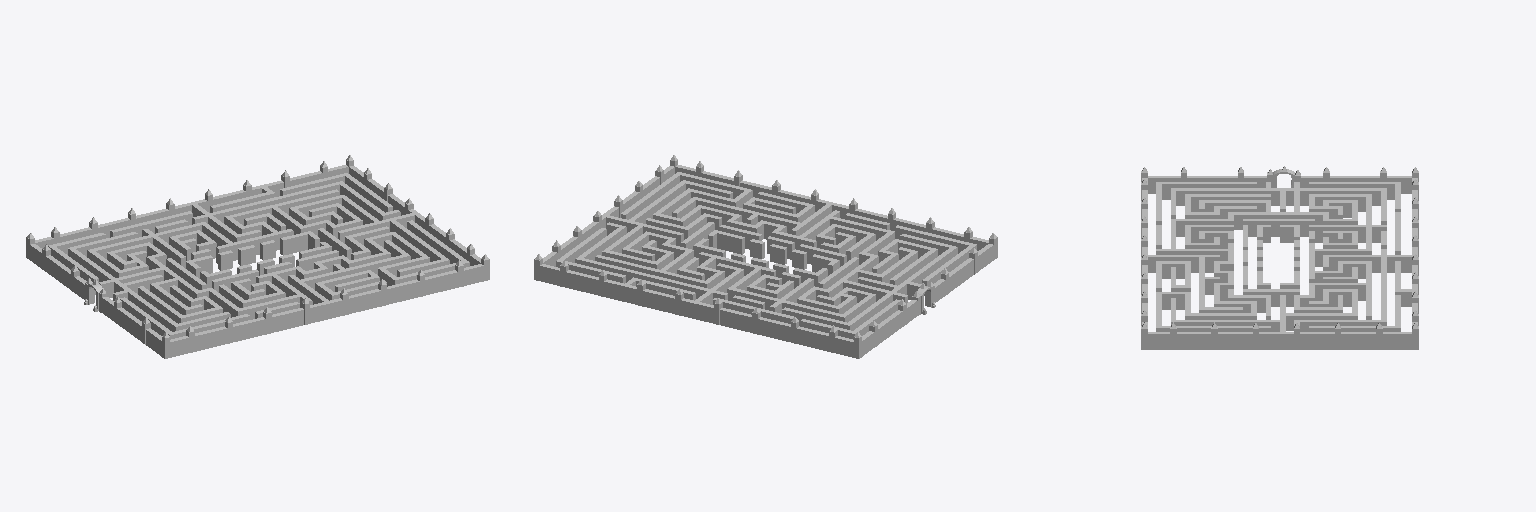
File: Maze.obj
3 views of the same model, side by side, from view 1: azimuth 30°, elevation 25°; view 2: azimuth 150°, elevation 25°; view 3: azimuth 270°, elevation 25° (orthographic).
Visible parts, largest first — view 1: Maze.007_Cube.014, Maze.002_Cube.003, Column.006_Cube.018, Maze.006_Cube.008, Maze.014_Cube.025, Maze.008_Cube.015, Maze.044_Cube.055, Maze.001_Cube.002, Column.008_Cube.019, Maze.046_Cube.057, Maze.068_Cube.079, Maze.052_Cube.063 (+9 smaller); view 2: Maze.002_Cube.003, Maze.007_Cube.014, Column.008_Cube.019, Maze.006_Cube.008, Maze.014_Cube.025, Maze.044_Cube.055, Maze.008_Cube.015, Maze.001_Cube.002, Maze.046_Cube.057, Column.006_Cube.018, Maze.068_Cube.079, Maze.052_Cube.063 (+9 smaller); view 3: Maze.006_Cube.008, Maze.014_Cube.025, Column.005_Cube.017, Maze.057_Cube.068, Maze.008_Cube.015, Maze.082_Cube.093, Maze.001_Cube.002, Maze.032_Cube.043, Maze.045_Cube.056, Maze.051_Cube.062, Maze.048_Cube.059, Maze.009_Cube.020 (+8 smaller).
Boxes of the visible parts, box(x1,y1,x2,y2) form: Maze.007_Cube.014: box(170, 264, 483, 357); Maze.002_Cube.003: box(35, 165, 348, 248); Column.006_Cube.018: box(186, 260, 463, 352); Maze.006_Cube.008: box(349, 166, 480, 265); Maze.014_Cube.025: box(68, 247, 177, 331); Maze.008_Cube.015: box(102, 297, 161, 356); Maze.044_Cube.055: box(192, 182, 339, 224); Maze.001_Cube.002: box(30, 244, 86, 299); Column.008_Cube.019: box(51, 161, 327, 243); Maze.046_Cube.057: box(87, 222, 206, 258); Maze.068_Cube.079: box(224, 189, 339, 225); Maze.052_Cube.063: box(301, 254, 410, 289); Maze.002_Cube.003: box(540, 264, 853, 357); Maze.007_Cube.014: box(675, 165, 988, 250); Column.008_Cube.019: box(560, 260, 837, 352); Maze.006_Cube.008: box(543, 166, 674, 266); Maze.014_Cube.025: box(845, 248, 954, 330); Maze.044_Cube.055: box(580, 258, 727, 299); Maze.008_Cube.015: box(933, 244, 993, 302); Maze.001_Cube.002: box(862, 300, 917, 356); Maze.046_Cube.057: box(727, 287, 846, 321); Column.006_Cube.018: box(696, 161, 972, 242); Maze.068_Cube.079: box(595, 255, 709, 288); Maze.052_Cube.063: box(691, 197, 799, 233); Maze.006_Cube.008: box(1148, 332, 1411, 349); Maze.014_Cube.025: box(1176, 188, 1386, 205); Column.005_Cube.017: box(1170, 322, 1382, 349); Maze.057_Cube.068: box(1323, 255, 1411, 272); Maze.008_Cube.015: box(1148, 176, 1266, 193); Maze.082_Cube.093: box(1228, 212, 1328, 229); Maze.001_Cube.002: box(1301, 176, 1411, 193); Maze.032_Cube.043: box(1243, 219, 1314, 236); Maze.045_Cube.056: box(1309, 225, 1386, 242); Maze.051_Cube.062: box(1148, 255, 1219, 272); Maze.048_Cube.059: box(1171, 320, 1279, 331); Maze.009_Cube.020: box(1162, 182, 1256, 199).
Size of the model in its own units: 65.94 by 5.19 by 48.1.